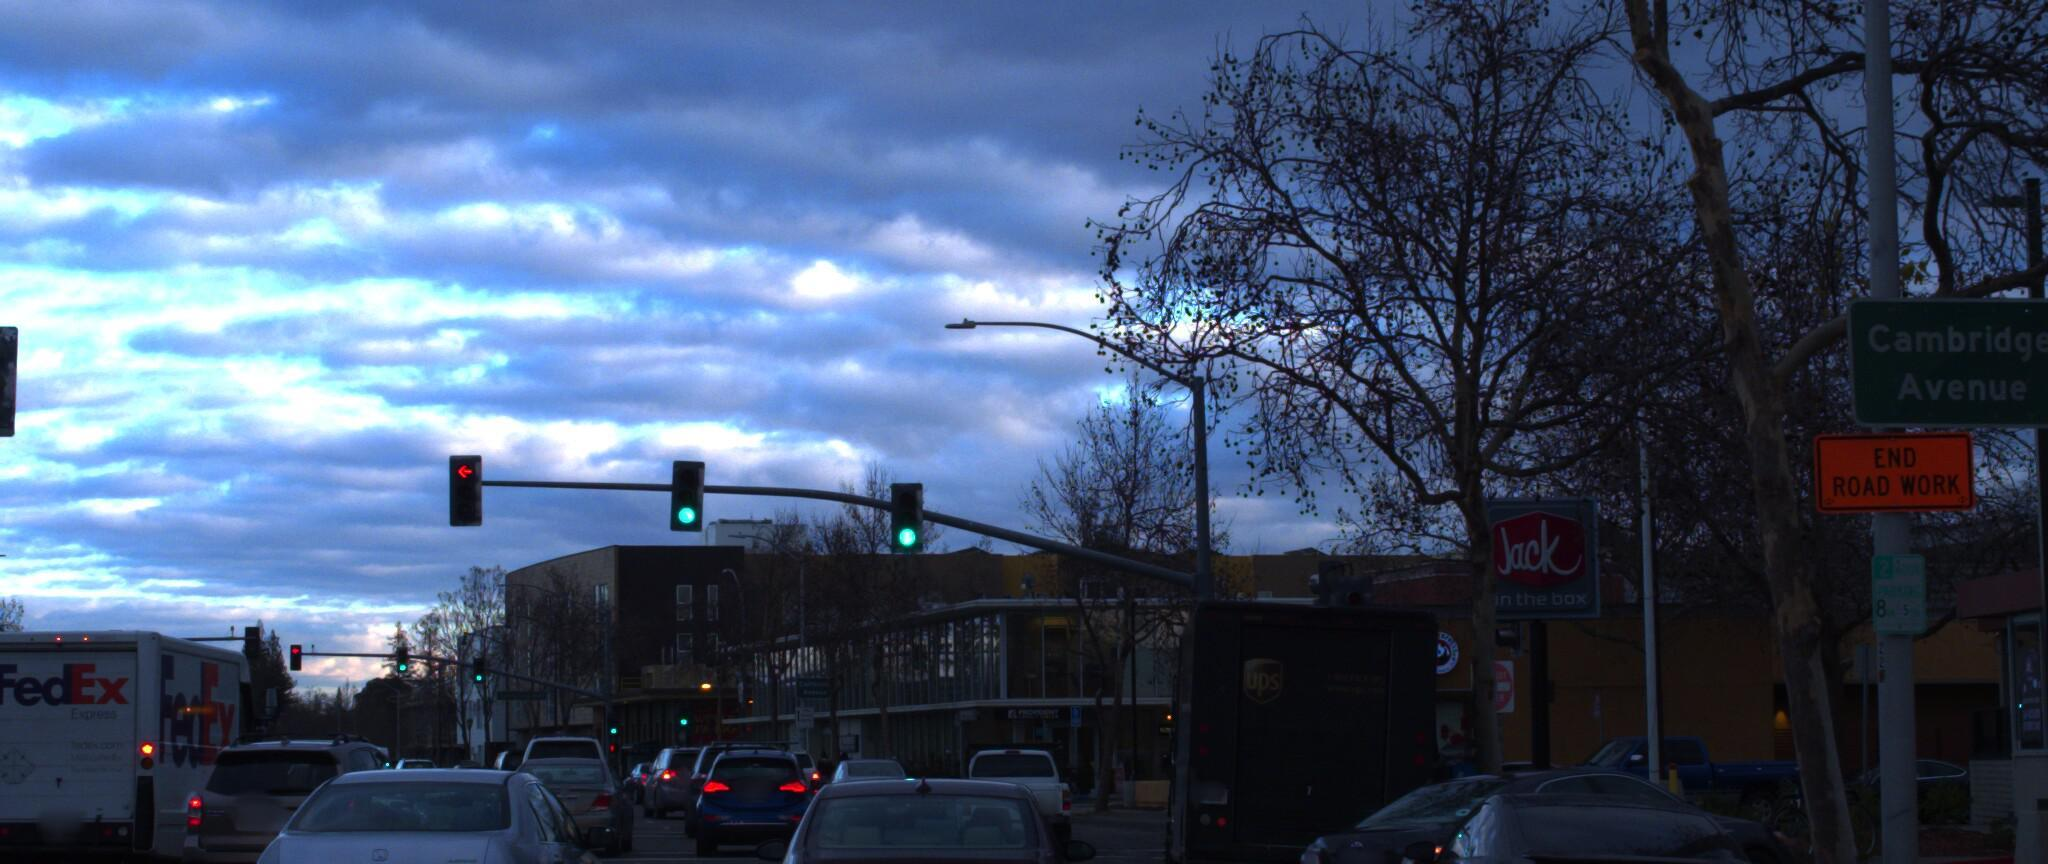car: (1268, 733, 1771, 864), (1357, 764, 1825, 864), (236, 758, 633, 864), (737, 754, 1104, 864), (1480, 709, 1808, 820), (168, 730, 435, 864), (943, 724, 1074, 851), (488, 750, 632, 864), (683, 740, 819, 847), (674, 711, 792, 812), (814, 733, 922, 810), (637, 727, 734, 799)
truck: (1149, 578, 1469, 864), (0, 608, 293, 864)
